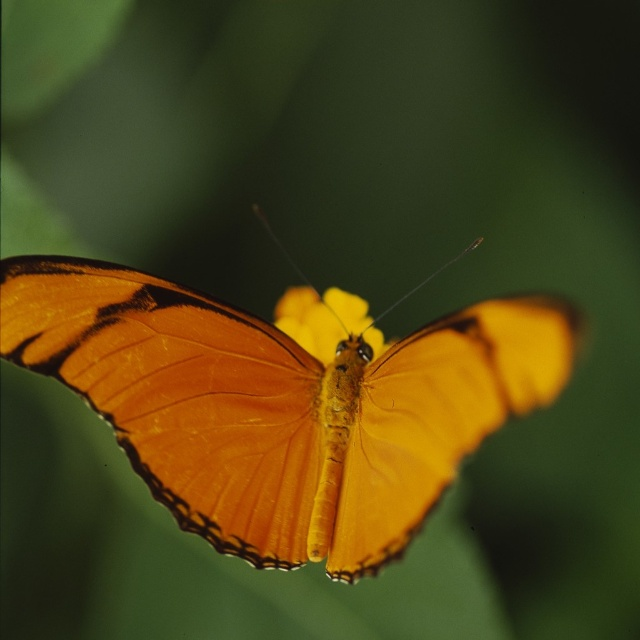Butterfly: (13, 214, 581, 586)
